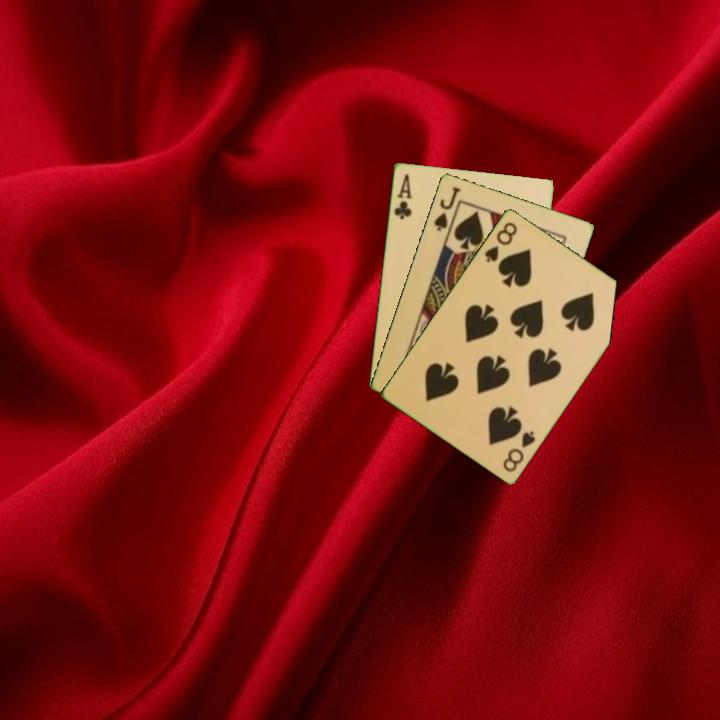8s: (499, 427, 538, 475), (481, 218, 520, 265)
Ac: (390, 170, 414, 222)
Js: (430, 183, 463, 234)
